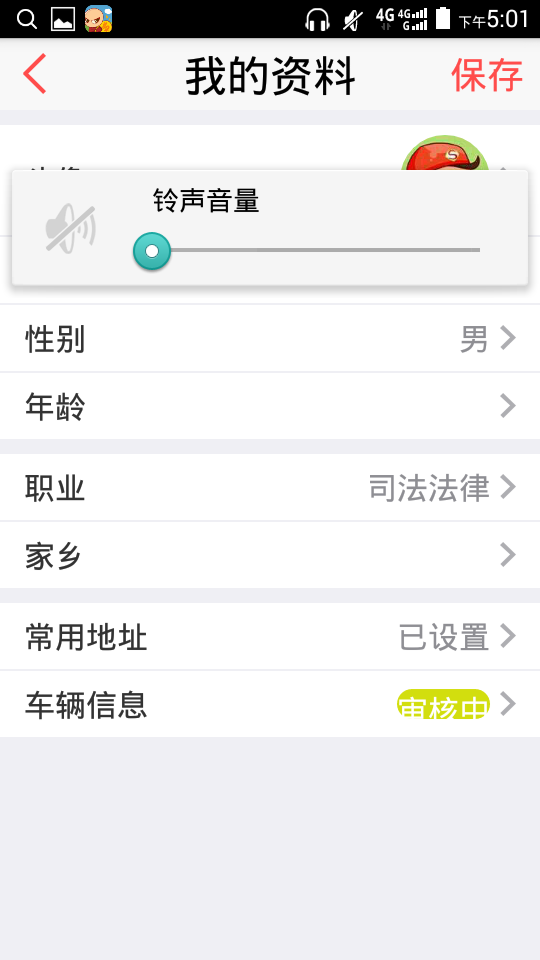button: (443, 51, 530, 100)
textview: (1, 305, 540, 745)
